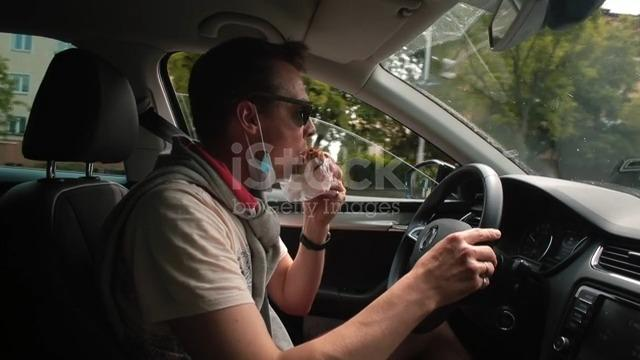Eating: (177, 25, 361, 216)
